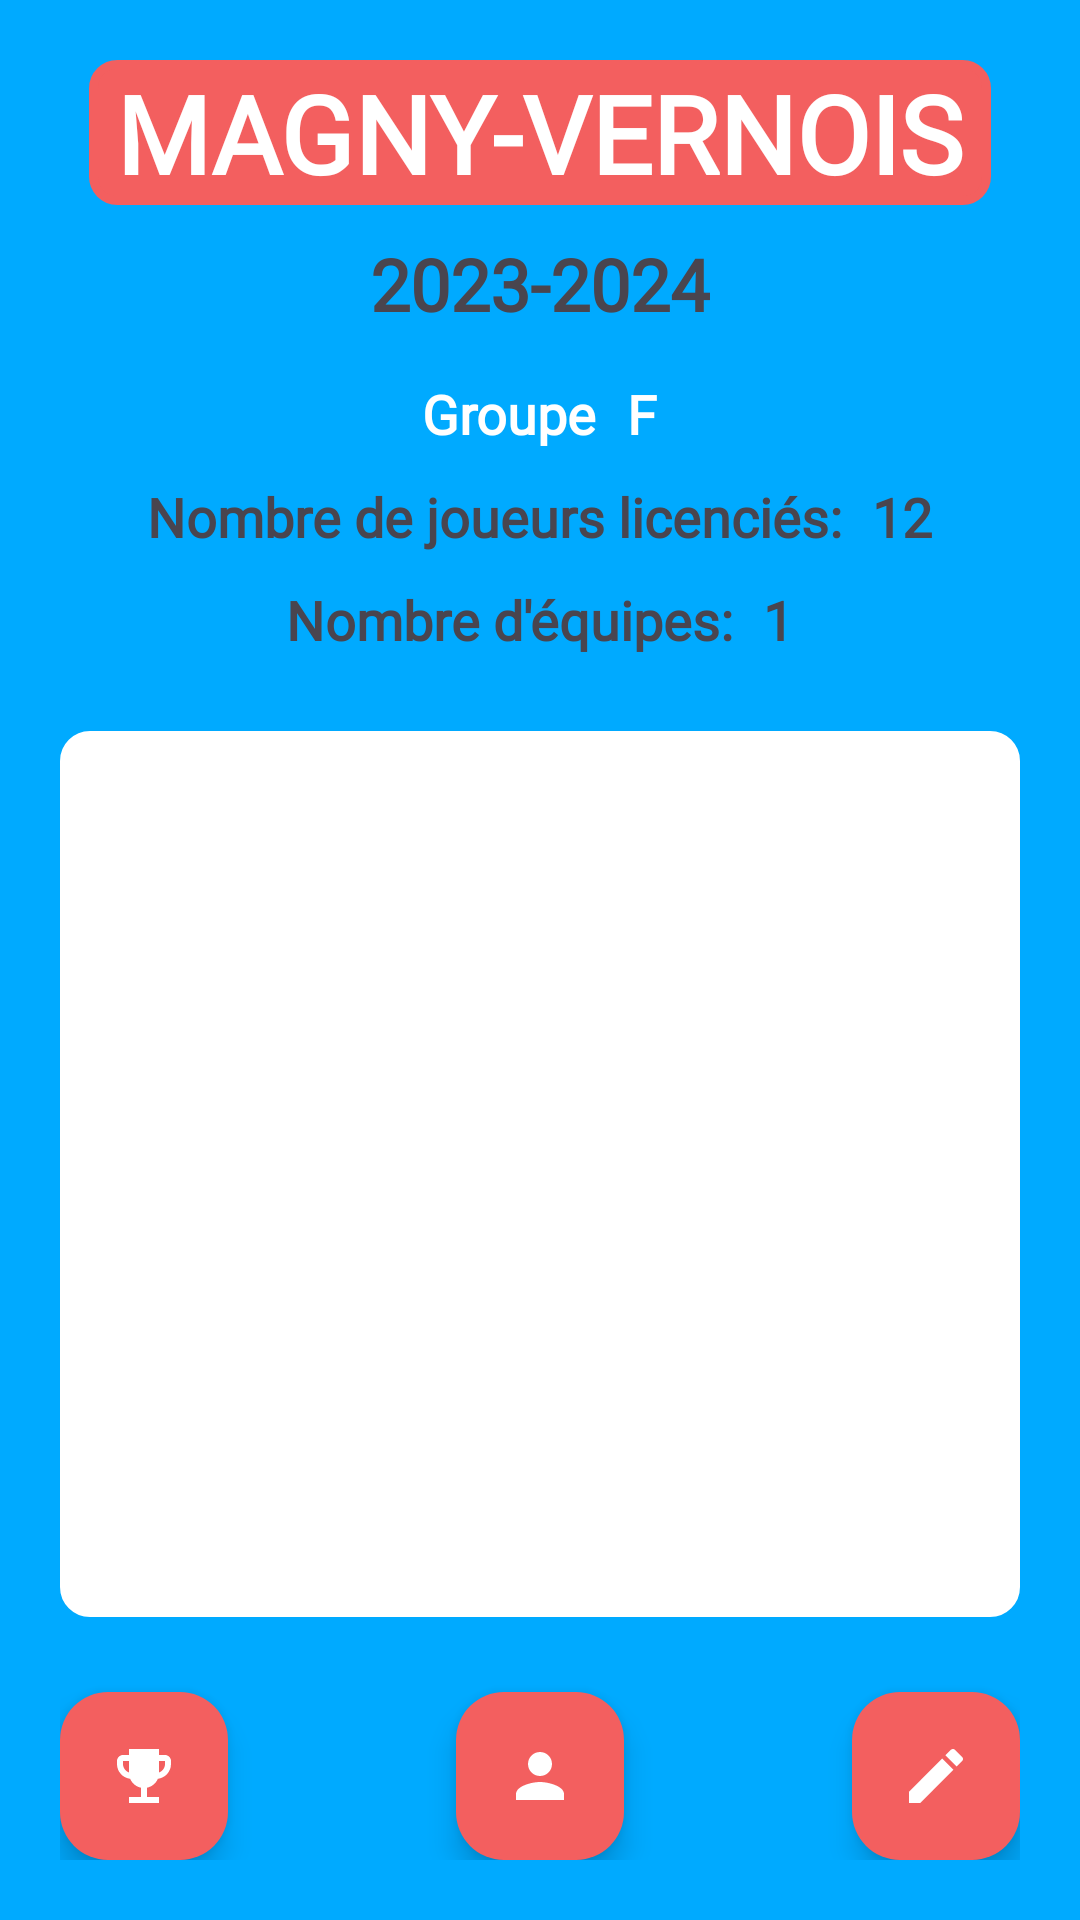

Where to tap for icons on this 1080w x 1920h app screen, as (x=x, y=y):
edit: (x=936, y=1776)
matchs: (x=144, y=1776)
players: (x=540, y=1776)
